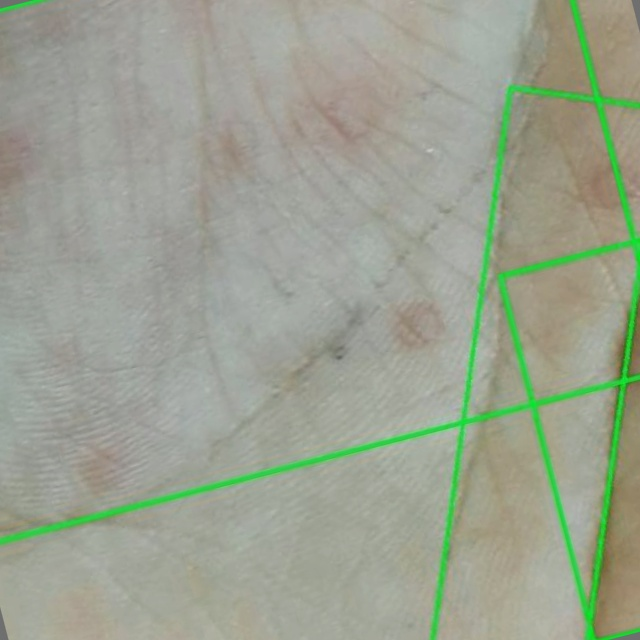Contact Dermatitis: (0, 0, 639, 541), (434, 86, 639, 639)
